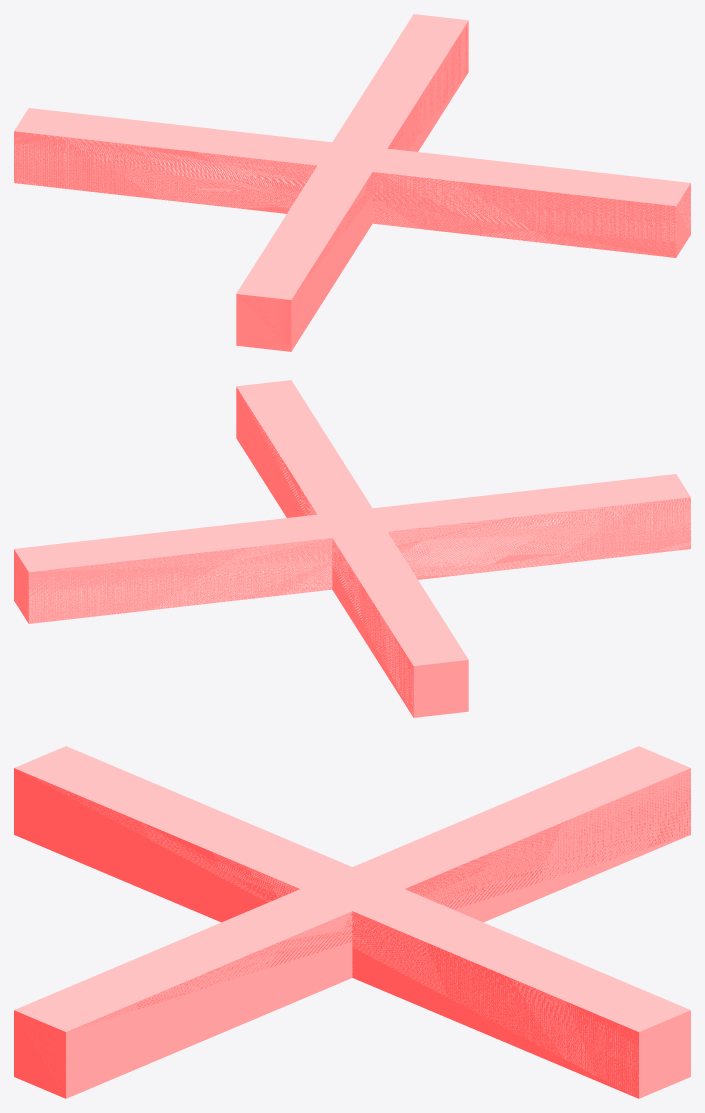
Rendered from cross.glb.
The picture shows the model from 3 angles, top to bottom: view 1: azimuth 30°, elevation 25°; view 2: azimuth 150°, elevation 25°; view 3: azimuth 270°, elevation 25°; orthographic projection. The views are drawn at different scales.
Visible parts, largest first — view 1: Cross; view 2: Cross; view 3: Cross.
Part boxes in pixels (x1,y1,x2,y2): Cross: (14,14,690,351); Cross: (14,380,690,717); Cross: (14,746,690,1098).
Size of the model in its own units: 1.84 by 0.2 by 1.84.
